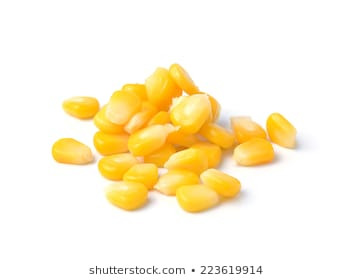corn: (129, 121, 179, 158), (108, 175, 152, 212), (170, 94, 210, 131), (50, 136, 97, 166), (265, 109, 299, 150), (176, 186, 218, 214), (63, 93, 101, 119)
